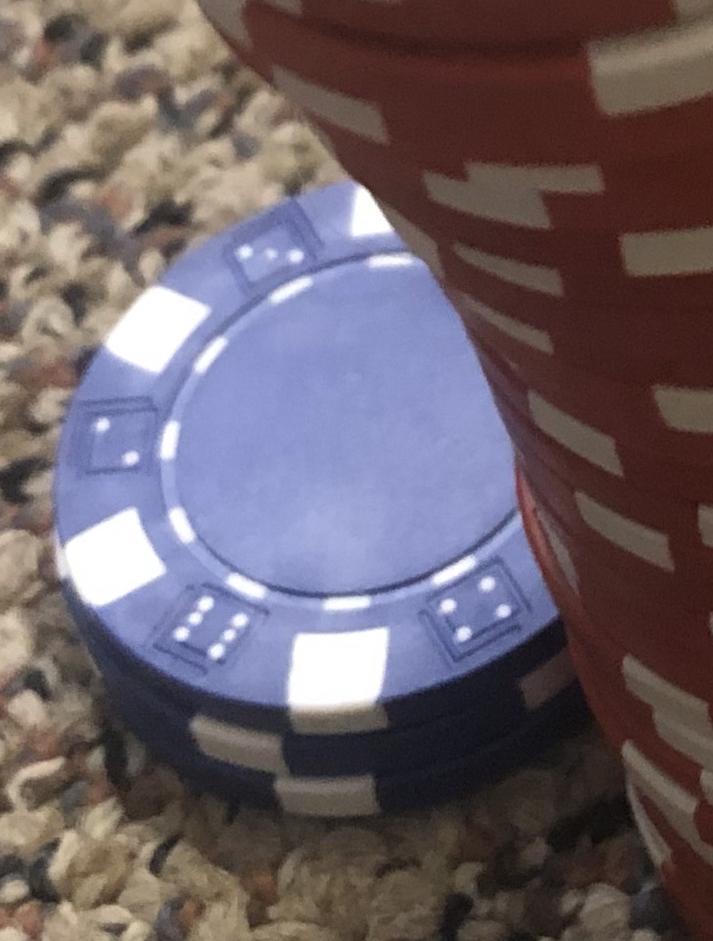Chip: (1, 1, 713, 941)
